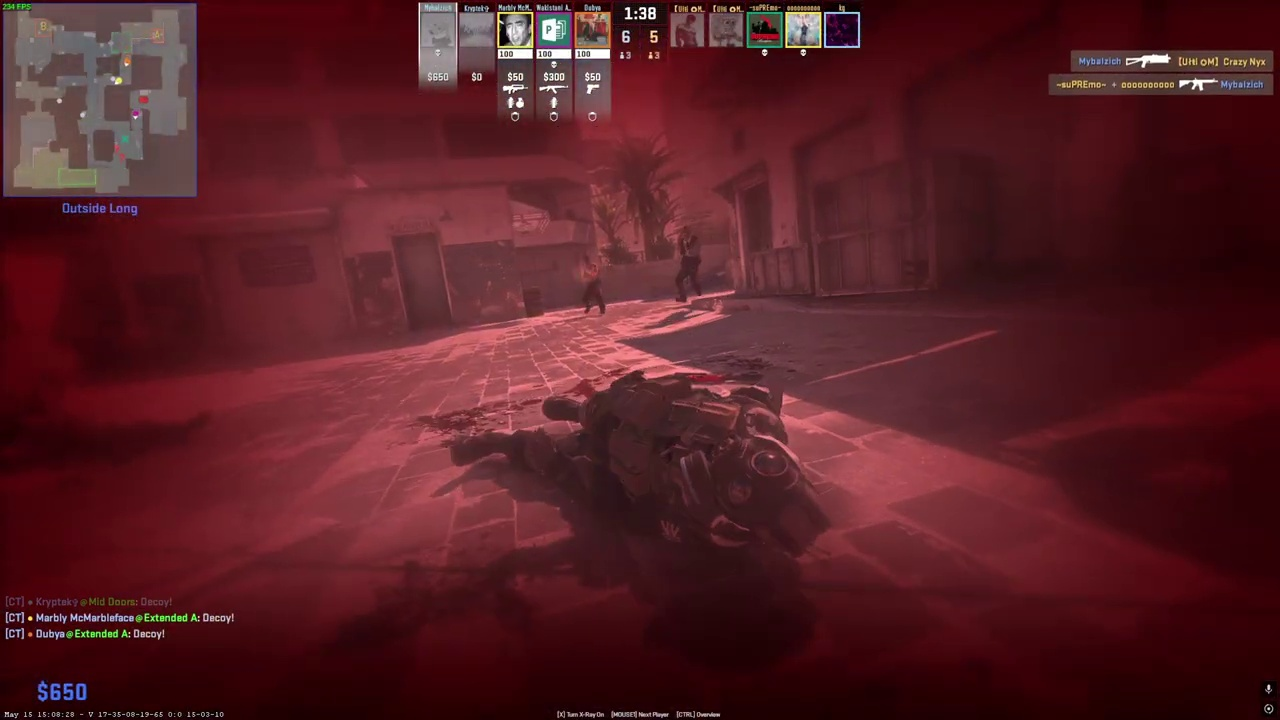Terrorist: (675, 228, 702, 302), (580, 256, 606, 315)
